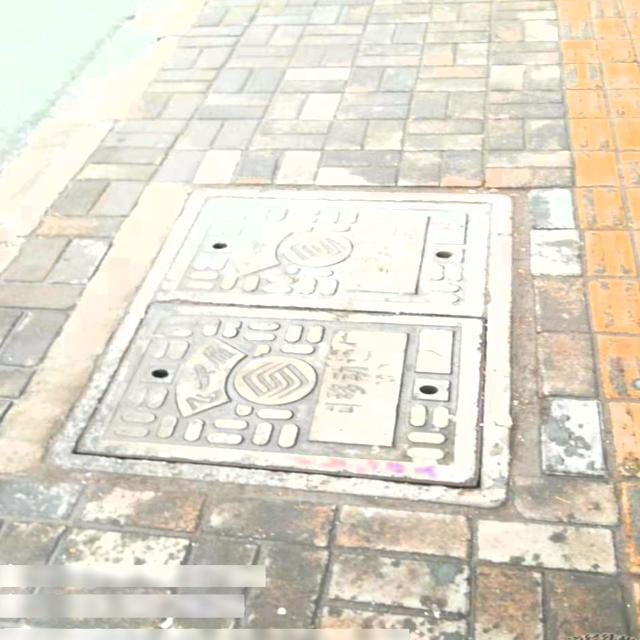good: (41, 188, 511, 508)
